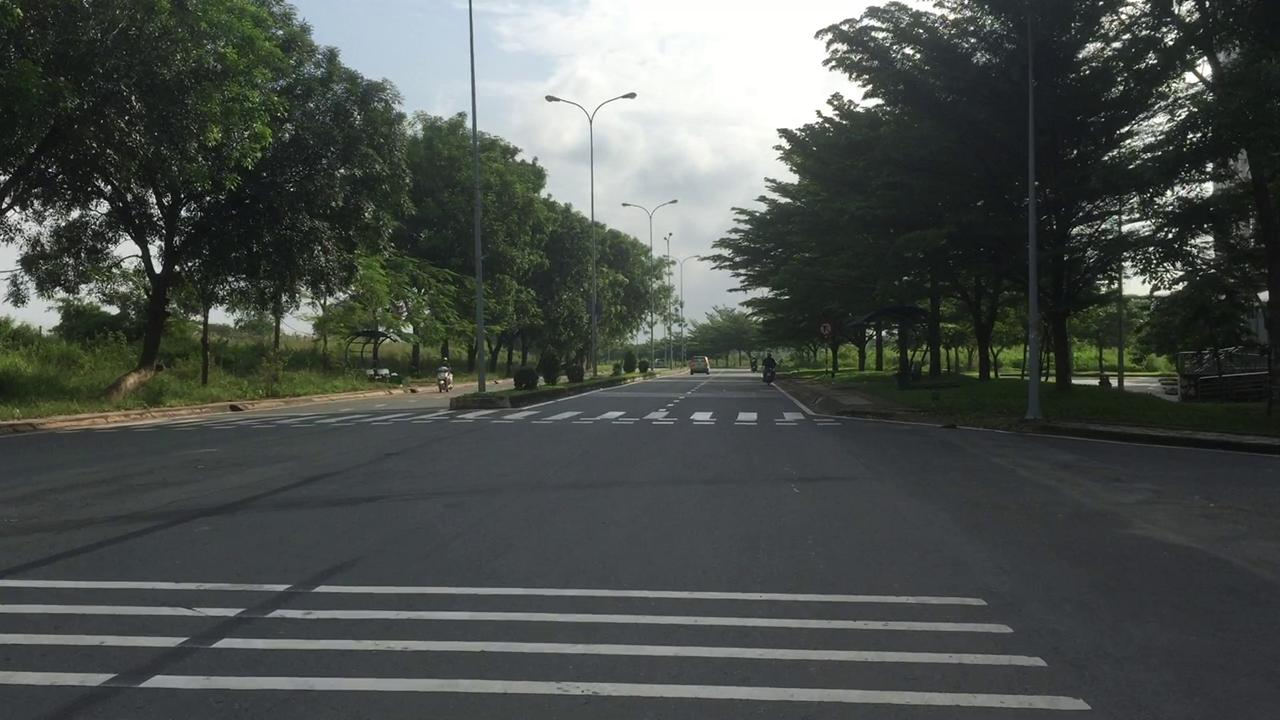P.112: (820, 322, 833, 337)
